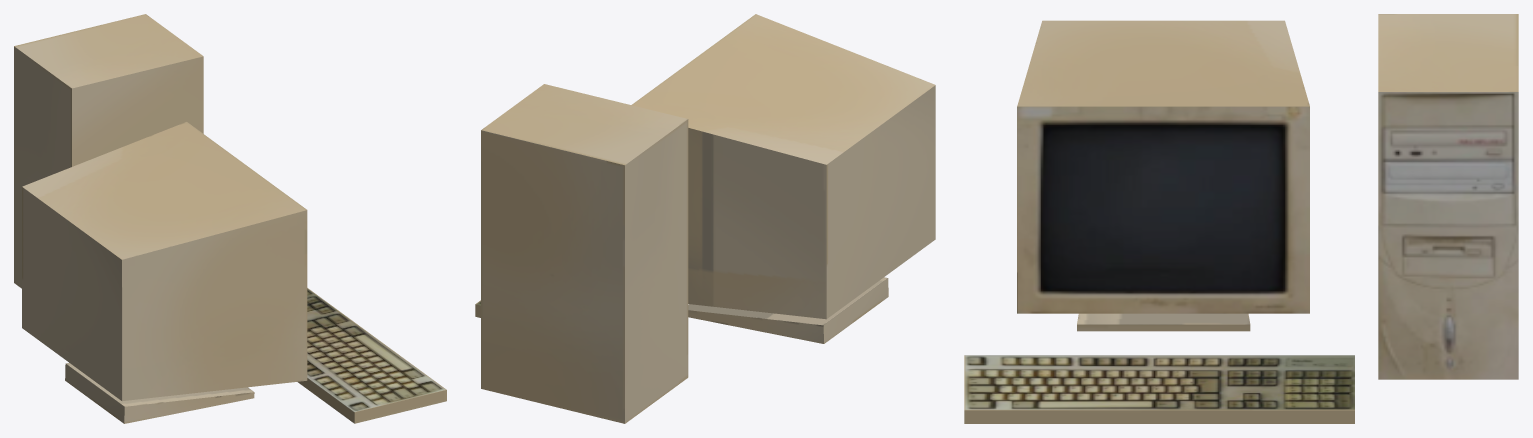
File: old_computer.fbx
3 views of the same model, side by side, from view 1: azimuth 30°, elevation 25°; view 2: azimuth 150°, elevation 25°; view 3: azimuth 270°, elevation 25° (orthographic). The views are drawn at different scales.
Visible parts, largest first — view 1: desk; view 2: desk; view 3: desk.
Part boxes in pixels (x1,y1,x2,y2): desk: (14, 14, 446, 423); desk: (475, 14, 935, 423); desk: (964, 14, 1518, 423).
Size of the model in its own units: 275 by 214 by 372.
